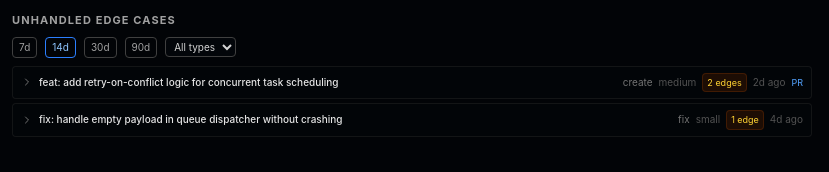
Scenario: SrUnhandledEdgesRetrospectivesPanel — viewport regression › filtered-empty state shows filter-aware message, not all-clear
Select "create" in the dropdown named "filter by task type": (201, 47) [165, 37, 236, 57]
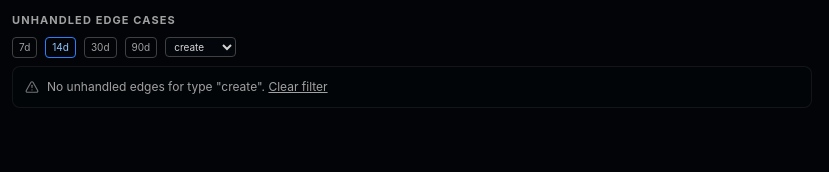
Expected: the message with test id "sr-unhandled-edges-empty" shows "No unhandled edges for type", [12, 66, 812, 108]
